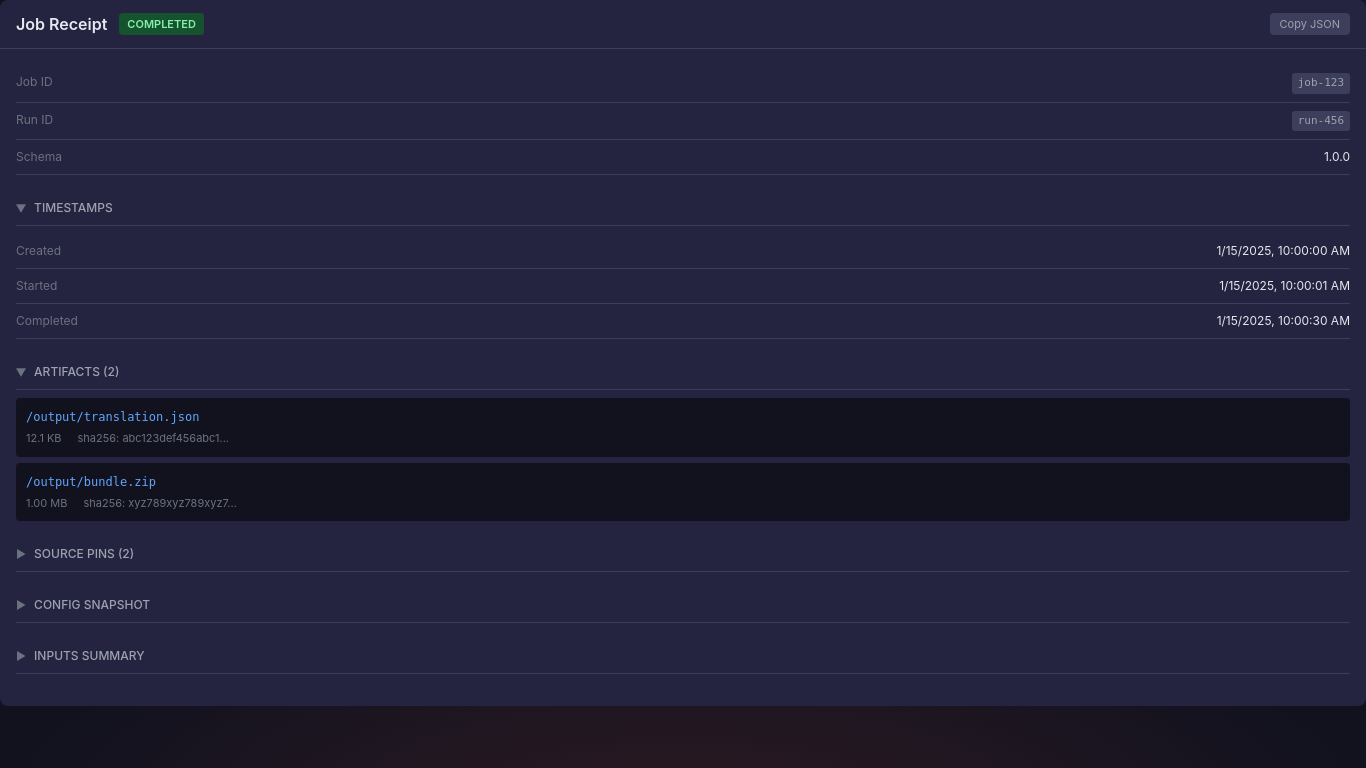
Test case: ReceiptViewer › collapsible sections › expands Source Pins section on click
Note: Click to expand
Click the text "Source Pins (2)".
click(84, 554)  # box 34,545 -> 134,563
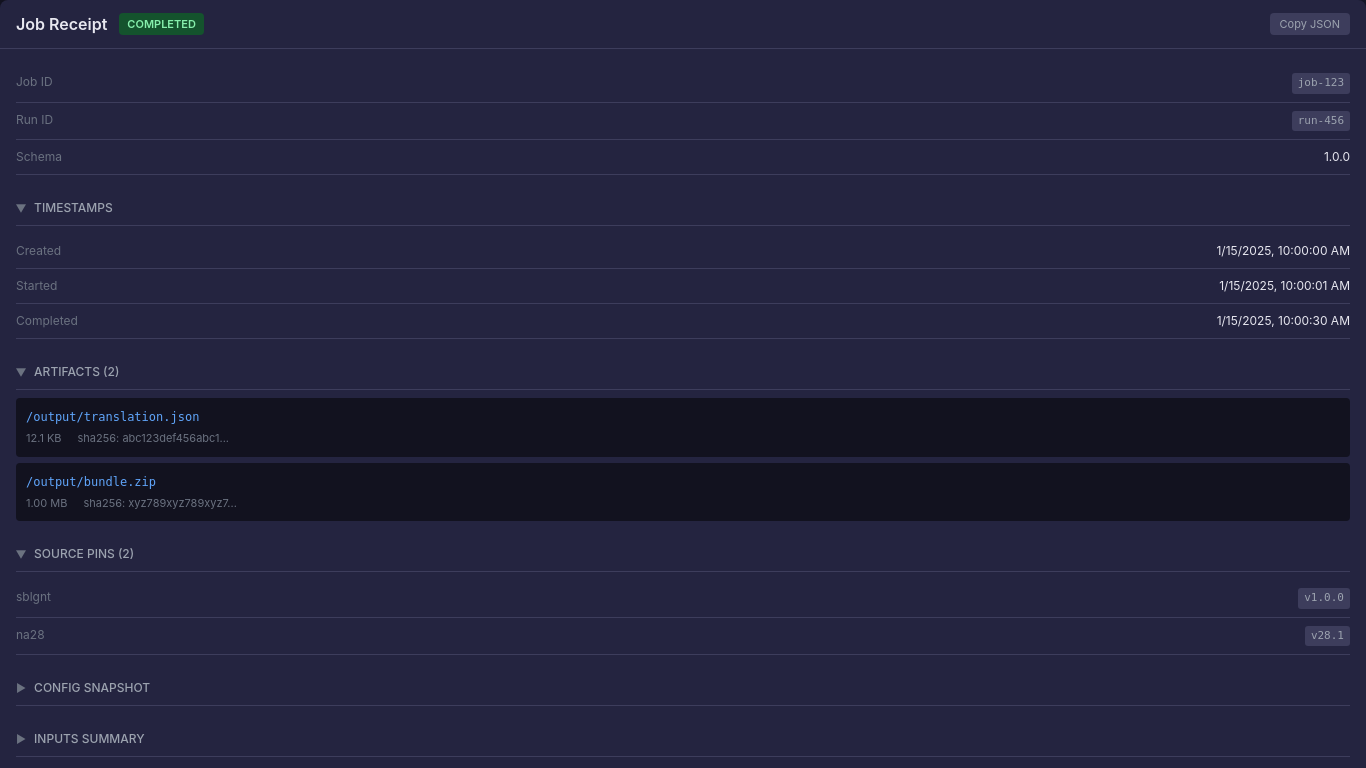
Expected: the text "sblgnt" is shown, 16,589 -> 51,604
Expected: the text "v1.0.0" is shown, 1298,588 -> 1350,608
